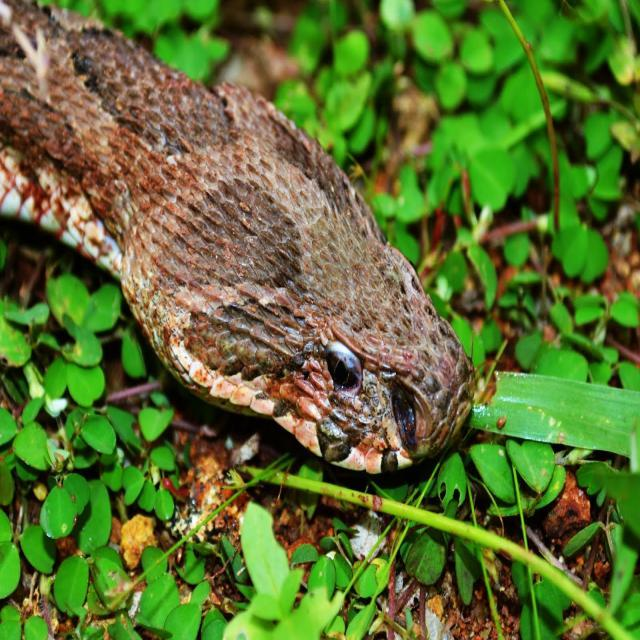Snake: (0, 0, 476, 476)
